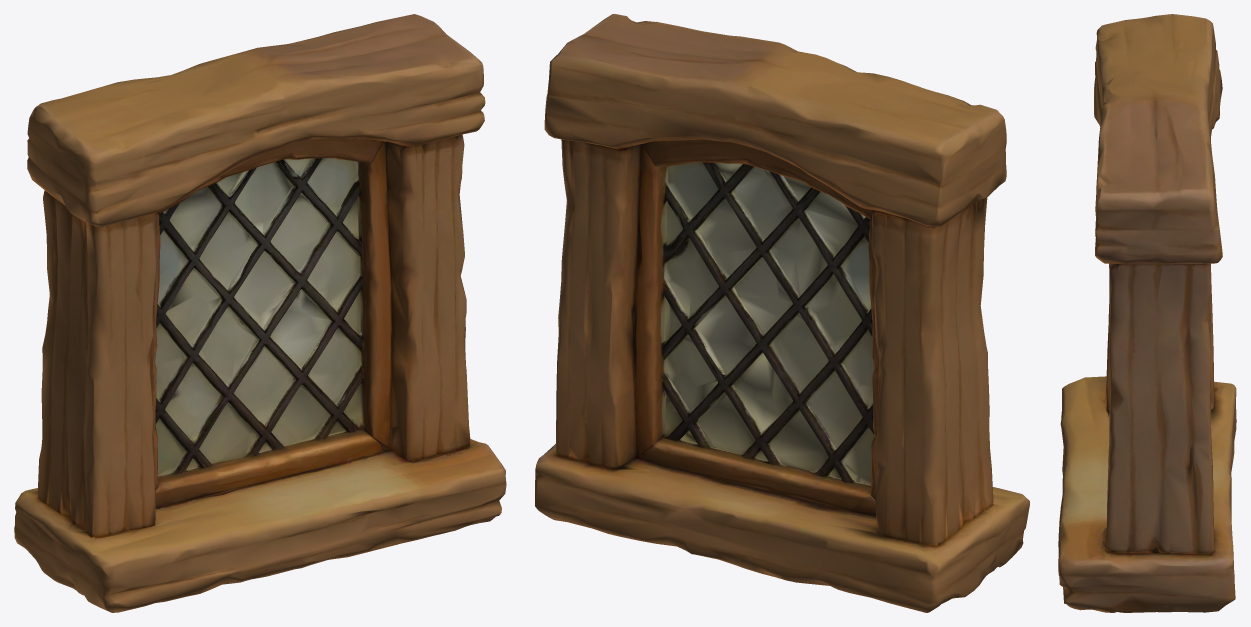
File: mod_win_a.glb
3 renders of one model, left to right at view 1: azimuth 30°, elevation 25°; view 2: azimuth 150°, elevation 25°; view 3: azimuth 270°, elevation 25°, orthographic. The views are drawn at different scales.
Visible parts, largest first — view 1: tripo_node_f2feb610-37c5-4156-99cf-b1e305732789; view 2: tripo_node_f2feb610-37c5-4156-99cf-b1e305732789; view 3: tripo_node_f2feb610-37c5-4156-99cf-b1e305732789.
Part boxes in pixels (left/top/right/bottom): tripo_node_f2feb610-37c5-4156-99cf-b1e305732789: left=14, top=14, right=506, bottom=612; tripo_node_f2feb610-37c5-4156-99cf-b1e305732789: left=535, top=14, right=1029, bottom=612; tripo_node_f2feb610-37c5-4156-99cf-b1e305732789: left=1058, top=14, right=1236, bottom=612.
Bounding box in the file's own units: 0.901 × 0.9786 × 0.3633.
1 material, 1 textured.
